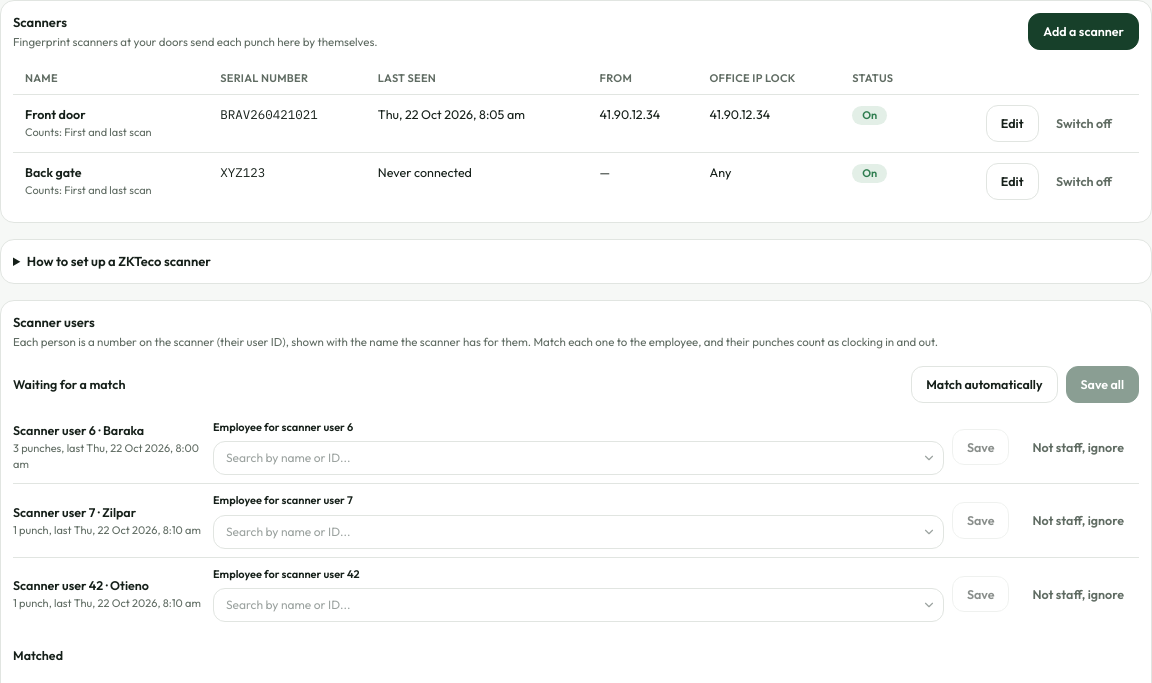
it: Scanners tab › Match automatically goes by the name: one person is suggested, several are named, a number the name disagrees with is not
Check: the text "Scanner user 42 · Otieno" is shown, box [13,577,149,593]
Click the button "Match automatically": (984, 384) [911,366,1058,403]
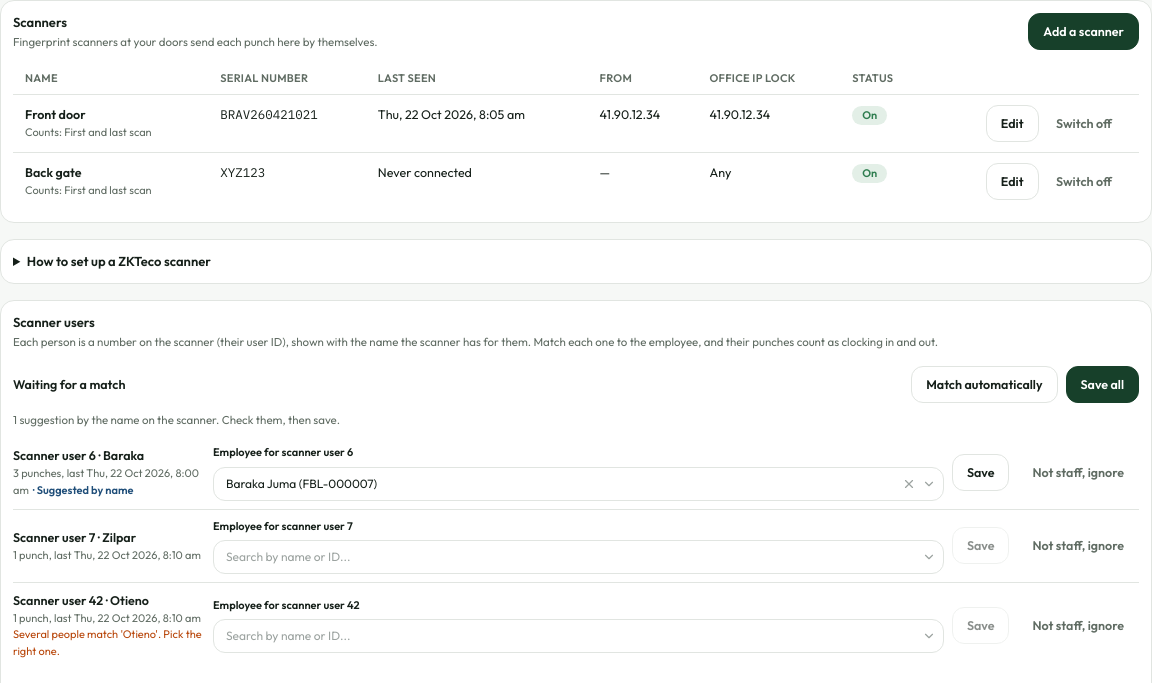
Check: the message reads "1 suggestion by the name on the scanner. Check them, then save.", box [13,412,340,427]
Check: the dropdown labelled "Employee for scanner user 6" holds "Baraka Juma (FBL-000007)", box [213,466,944,500]
Check: the text "· Suggested by name" is shown, box [33,483,134,497]
